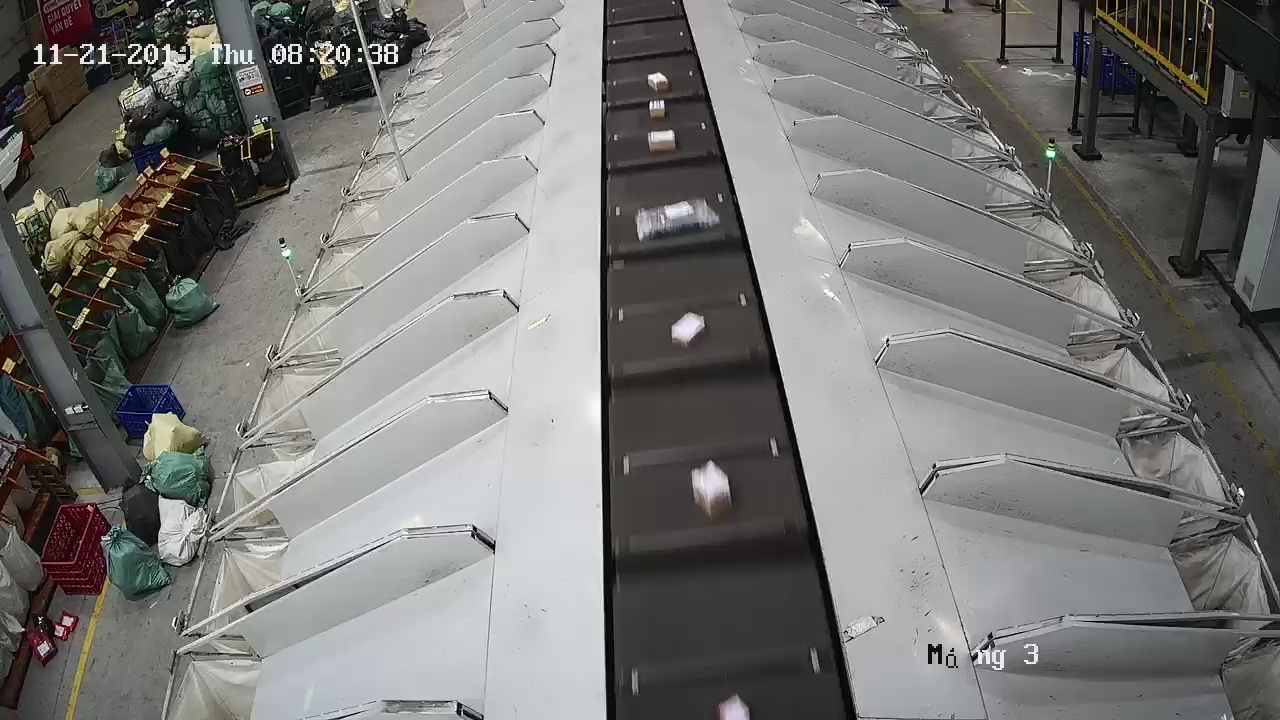parcel: (689, 458, 733, 522)
